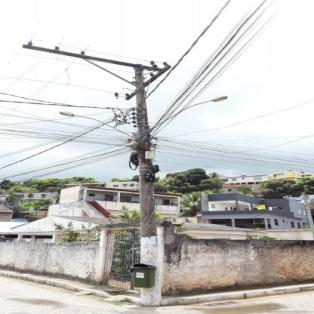Poste: (130, 60, 168, 306)
